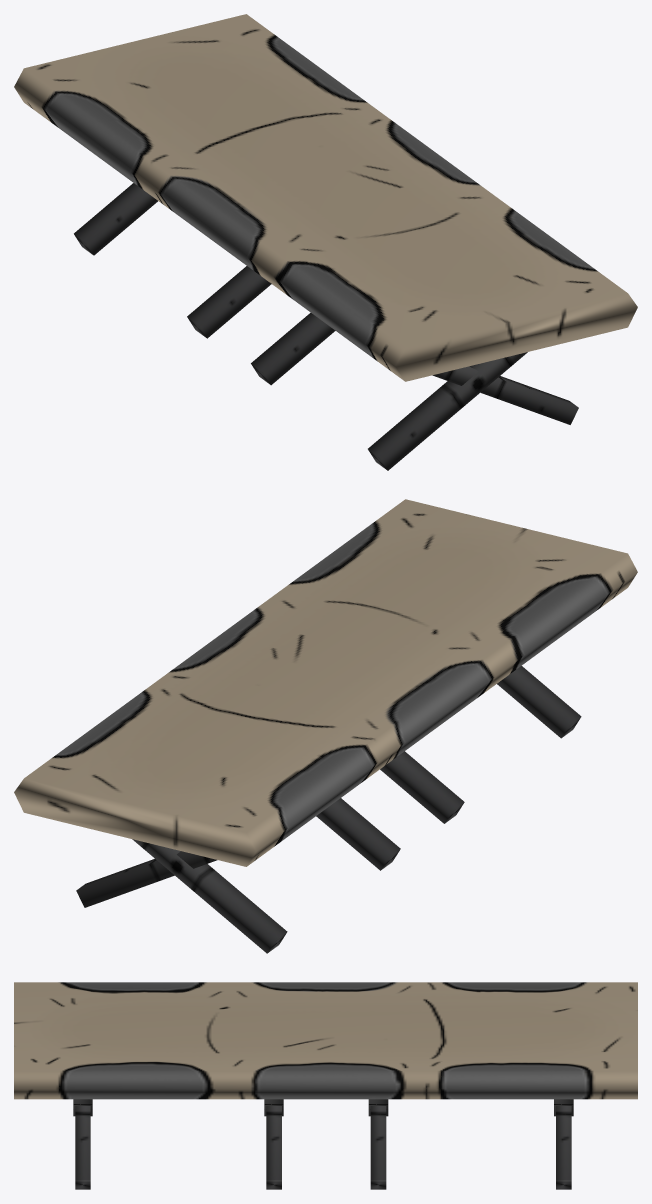
Rendered from mod_prop_bed01.fbx.
The picture shows the model from 3 angles, top to bottom: view 1: azimuth 30°, elevation 25°; view 2: azimuth 150°, elevation 25°; view 3: azimuth 270°, elevation 25°; orthographic projection. The views are drawn at different scales.
Parts seen in each view (by area): view 1: mod_prop_bed01; view 2: mod_prop_bed01; view 3: mod_prop_bed01.
Boxes of the visible parts, x1,y1,x2,y2 form: mod_prop_bed01: [14, 14, 637, 470]; mod_prop_bed01: [14, 499, 637, 953]; mod_prop_bed01: [14, 982, 637, 1189].
Bounding box in the file's own units: 69.69 × 42.42 × 190.
